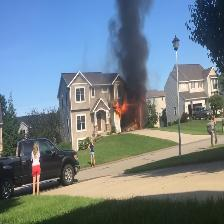fire: (109, 98, 151, 122)
smoke: (111, 2, 151, 94)
